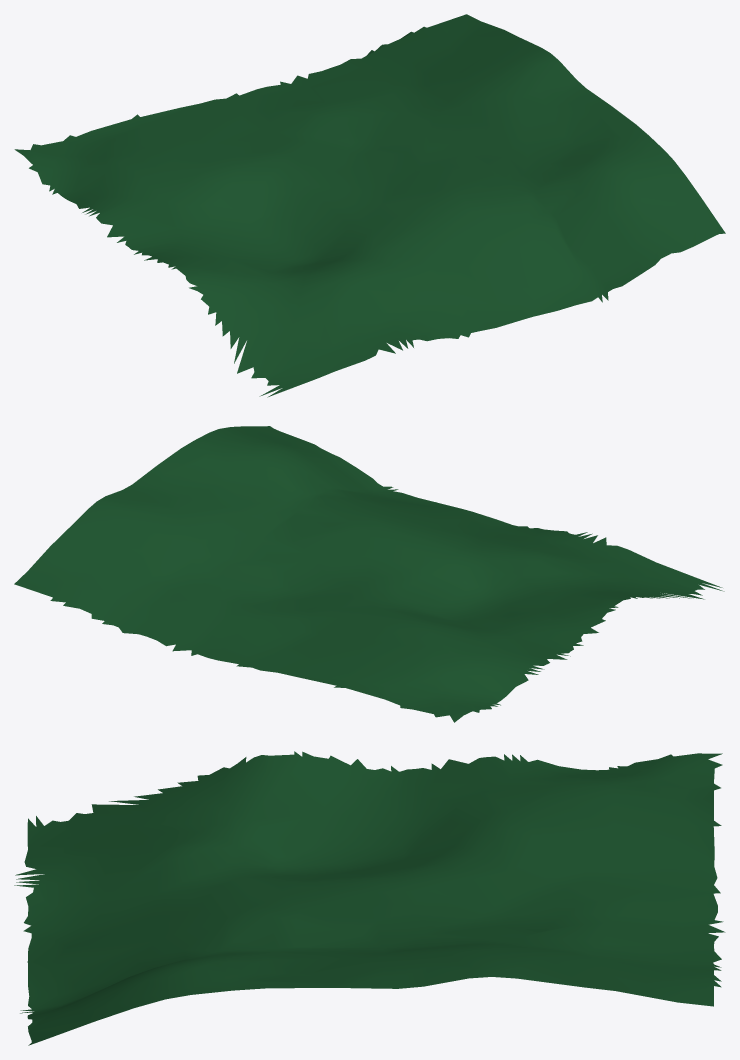
File: payo_land_x3_ym1_lod2.glb
3 renders of one model, top to bottom at view 1: azimuth 30°, elevation 25°; view 2: azimuth 150°, elevation 25°; view 3: azimuth 270°, elevation 25°, orthographic. The views are drawn at different scales.
Parts seen in each view (by area): view 1: payo_land_x3_ym1; view 2: payo_land_x3_ym1; view 3: payo_land_x3_ym1.
Part boxes in pixels (box(x1,y1,x2,y2)): payo_land_x3_ym1: box(14, 14, 725, 397); payo_land_x3_ym1: box(14, 426, 724, 722); payo_land_x3_ym1: box(14, 751, 725, 1045).
Size of the model in its own units: 264 by 56.72 by 265.
